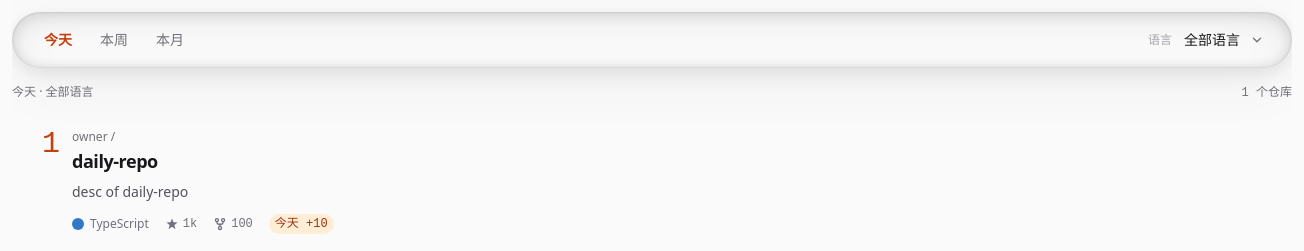
Scenario: RepoBrowser idle prefetch and pending skeleton › idle-prefetches the other periods once, cache-write only, so first click needs zero fetches
expect the text "daily-repo" is shown: met, box x1=72 y1=149 x2=158 y2=173
expect the text "weekly-repo" is not shown: met
// 首次点击 本周：纯缓存命中，零额外请求
Click the button "本周": [114, 40] box x1=88 y1=24 x2=140 y2=56
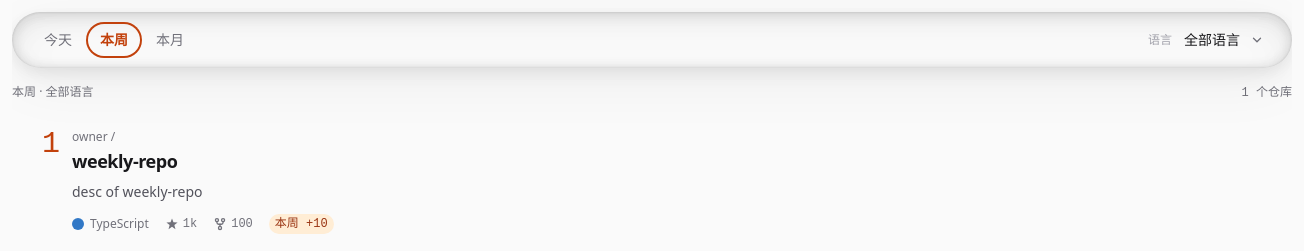
expect the text "weekly-repo" is shown: met, box x1=72 y1=149 x2=177 y2=173
